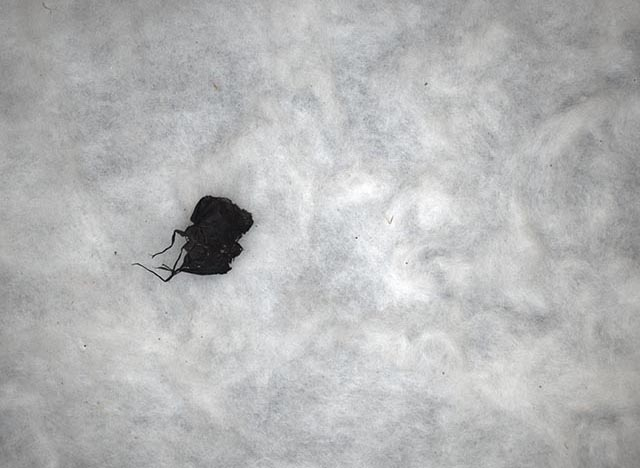plastic film: (132, 195, 255, 285)
